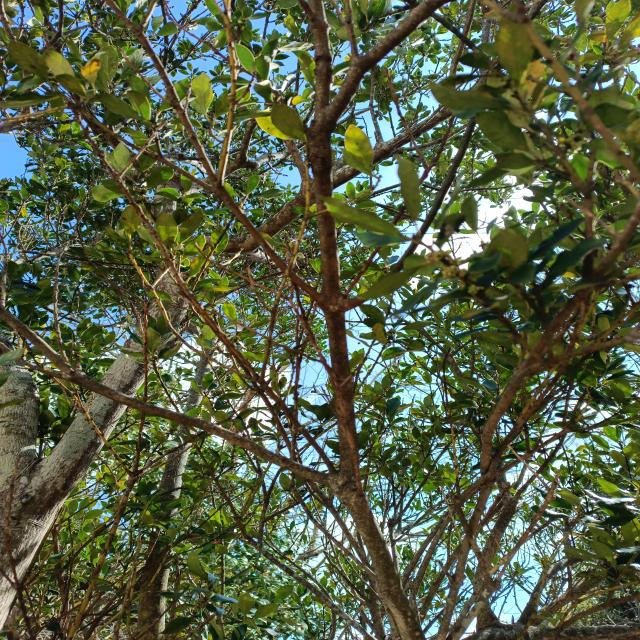Branch: (31, 244, 187, 561), (193, 107, 455, 254), (473, 457, 518, 631), (531, 575, 604, 625), (465, 624, 639, 639)
Twig: (114, 1, 320, 305), (307, 110, 425, 640), (0, 306, 335, 486), (434, 337, 547, 640), (419, 423, 532, 628), (448, 399, 536, 640), (60, 92, 212, 193), (330, 0, 445, 122), (497, 471, 560, 579), (532, 591, 639, 640), (519, 553, 585, 625), (218, 0, 237, 186), (410, 512, 450, 600), (303, 0, 333, 116)
